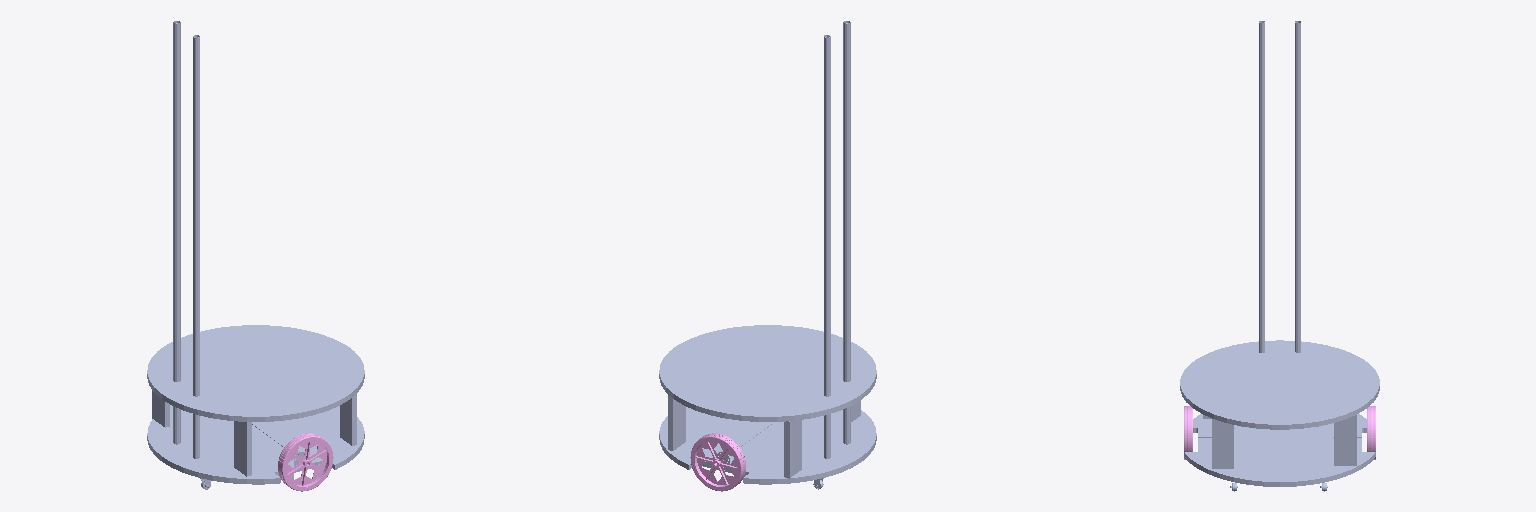
The robot description file, URDF, robot "mobile_rob_dev_sim":
<?xml version="1.0" encoding="utf-8"?>
<!-- This URDF was automatically created by SolidWorks to URDF Exporter! Originally created by [author] ([email redacted]) 
     Commit Version: 1.6.0-4-g7f85cfe  Build Version: 1.6.7995.38578
     For more information, please see http://wiki.ros.org/sw_urdf_exporter -->
<robot name="mobile_rob_dev_sim">
  <link
    name="base_link">
    <inertial>
      <origin
        xyz="-0.00461487870734328 0.000366188243899251 0.111305202476825"
        rpy="0 0 0"/>
      <mass
        value="8.01860580709809"/>
      <inertia
        ixx="0.156639319017219"
        ixy="1.11164438093558E-09"
        ixz="-2.73458344436832E-06"
        iyy="0.170503040844609"
        iyz="-3.90039384128734E-13"
        izz="0.273984906364084"/>
    </inertial>
    <visual>
      <origin
        xyz="0 0 0"
        rpy="0 0 0"/>
      <geometry>
        <mesh
          filename="package://mobile_rob_dev_sim/meshes/base_link.STL"/>
      </geometry>
      <material
        name="">
        <color
          rgba="0.792156862745098 0.819607843137255 0.933333333333333 1"/>
      </material>
    </visual>
    <collision>
      <origin
        xyz="0 0 0"
        rpy="0 0 0"/>
      <geometry>
        <mesh
          filename="package://mobile_rob_dev_sim/meshes/base_link.STL"/>
      </geometry>
    </collision>
  </link>
  <link
    name="left_wheel">
    <inertial>
      <origin
        xyz="0 0 0"
        rpy="0 0 0"/>
      <mass
        value="0.211162907036622"/>
      <inertia
        ixx="0.000475634940966531"
        ixy="1.03328518564722E-21"
        ixz="5.23183801417296E-19"
        iyy="0.000931261531604138"
        iyz="4.20387846548917E-21"
        izz="0.000475634940966532"/>
    </inertial>
    <visual>
      <origin
        xyz="0 0 0"
        rpy="0 0 0"/>
      <geometry>
        <mesh
          filename="package://mobile_rob_dev_sim/meshes/left_wheel.STL"/>
      </geometry>
      <material
        name="">
        <color
          rgba="1 0.752941176470588 1 1"/>
      </material>
    </visual>
    <collision>
      <origin
        xyz="0 0 0"
        rpy="0 0 0"/>
      <geometry>
        <mesh
          filename="package://mobile_rob_dev_sim/meshes/left_wheel.STL"/>
      </geometry>
    </collision>
  </link>
  <joint
    name="left_wheel_joint"
    type="continuous">
    <origin
      xyz="0 0.25563 0.035863"
      rpy="0 0 0"/>
    <parent
      link="base_link"/>
    <child
      link="left_wheel"/>
    <axis
      xyz="0 1 0"/>
  </joint>
  <link
    name="right_wheel">
    <inertial>
      <origin
        xyz="1.11022302462516E-16 -1.38777878078145E-17 0"
        rpy="0 0 0"/>
      <mass
        value="0.211162907036622"/>
      <inertia
        ixx="0.000475634940966534"
        ixy="1.38722267285926E-22"
        ixz="6.955139226144E-19"
        iyy="0.000931261531604141"
        iyz="4.2270223968197E-21"
        izz="0.000475634940966533"/>
    </inertial>
    <visual>
      <origin
        xyz="0 0 0"
        rpy="0 0 0"/>
      <geometry>
        <mesh
          filename="package://mobile_rob_dev_sim/meshes/right_wheel.STL"/>
      </geometry>
      <material
        name="">
        <color
          rgba="1 0.752941176470588 1 1"/>
      </material>
    </visual>
    <collision>
      <origin
        xyz="0 0 0"
        rpy="0 0 0"/>
      <geometry>
        <mesh
          filename="package://mobile_rob_dev_sim/meshes/right_wheel.STL"/>
      </geometry>
    </collision>
  </link>
  <joint
    name="right_wheel_joint"
    type="continuous">
    <origin
      xyz="0 -0.25563 0.035863"
      rpy="0 0 0"/>
    <parent
      link="base_link"/>
    <child
      link="right_wheel"/>
    <axis
      xyz="0 1 0"/>
  </joint>
    
  <transmission name="right_wheel_transmission">
  	<type>transmission_interface/SimpleTransmission</type>
  	<joint name="right_wheel_joint">
  		<hardwareInterface>hardware_interface/VelocityJointInterface</hardwareInterface>
  	</joint>
  	<actuator name="right_wheel_actuator">
  		<mecanicalReduction>7</mecanicalReduction>
  		<mecanicalReduction>VelocityJointInterface</mecanicalReduction>
  	</actuator>
  </transmission>
  <transmission name="left_wheel_transmission">
  	<type>transmission_interface/SimpleTransmission</type>
  	<joint name="left_wheel_joint">
  		<hardwareInterface>hardware_interface/VelocityJointInterface</hardwareInterface>
  	</joint>
  	<actuator name="left_wheel_actuator">
  		<mecanicalReduction>7</mecanicalReduction>
  		<mecanicalReduction>VelocityJointInterface</mecanicalReduction>
  	</actuator>
  </transmission>
  <gazebo>
        <plugin name="differential_drive_controller" filename="libgazebo_ros_diff_drive.so">
            <alwaysOn>true</alwaysOn>
            <updateRate>40</updateRate>
            <legacyMode>false</legacyMode>
            <leftJoint>left_wheel_joint</leftJoint>
            <rightJoint>right_wheel_joint</rightJoint>
            <wheelSeparation>0.50</wheelSeparation>
            <wheelDiameter>0.15</wheelDiameter>
            <torque>15</torque>
            <commandTopic>cmd_vel</commandTopic>
            <odometryTopic>odom</odometryTopic>
            <odometryFrame>odom</odometryFrame>
            <robotBaseFrame>base_link</robotBaseFrame>
            <publishWheelTF>false</publishWheelTF>
            <publishWheelJointState>false</publishWheelJointState>
            <rosDebugLevel>na</rosDebugLevel>
            <wheelAcceleration>0</wheelAcceleration>
            <wheelTorque>15</wheelTorque>
            <odometrySource>world</odometrySource>
            <publishOdomTF>true</publishOdomTF>
            <publishTf>1</publishTf>
        </plugin>
  </gazebo>
</robot>

--- What the picture shows (computed from the rendered views, not written in the file) ---
The picture shows the robot from 3 angles, left to right: view 1: azimuth 30°, elevation 25°; view 2: azimuth 150°, elevation 25°; view 3: azimuth 270°, elevation 25°; orthographic projection.
Robot: mobile_rob_dev_sim — 3 links, 2 joints (2 continuous); root link base_link; default pose: all joints at 0.
Visible links, largest first — view 1: base_link, right_wheel; view 2: base_link, left_wheel; view 3: base_link.
Boxes of the visible links, bbox=[...] form: base_link: bbox=[147, 21, 364, 489]; right_wheel: bbox=[278, 433, 333, 491]; base_link: bbox=[659, 21, 876, 489]; left_wheel: bbox=[690, 433, 745, 491]; base_link: bbox=[1180, 21, 1379, 491].
Bounding box of the posed robot: 0.56 × 0.5595 × 1.25 m (x, y, z).
Meshes: 3 distinct files referenced, 3 mesh visuals loaded (3 binary STL).